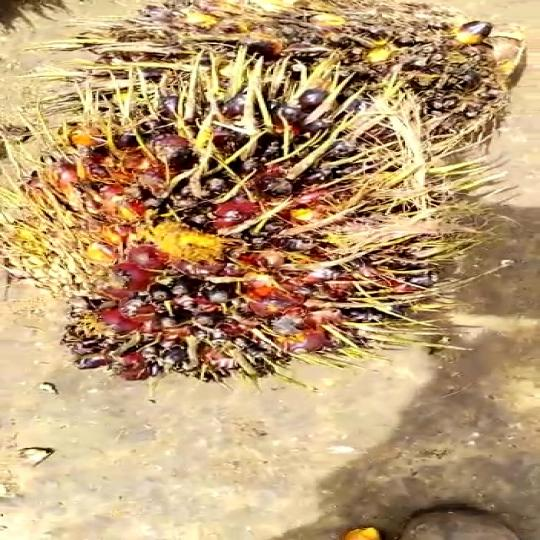kurang masak: (10, 75, 396, 363)
